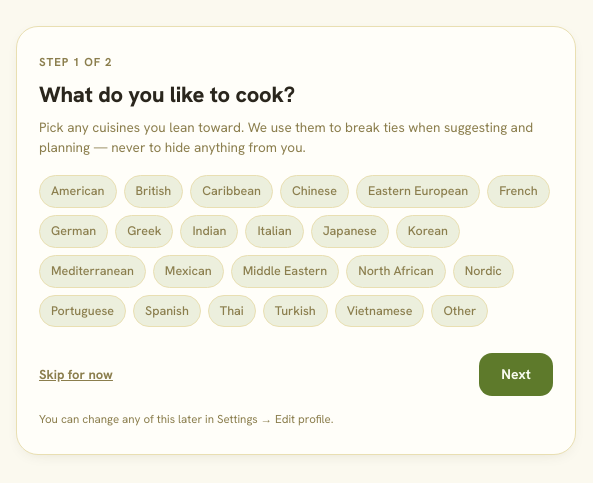
Test: OnboardingPage › keeps the user on the wizard when saving real choices fails
The image size is (593, 483).
Click the checkbox labelled "Thai" at point(232, 311), box x1=208 y1=294 x2=256 y2=327
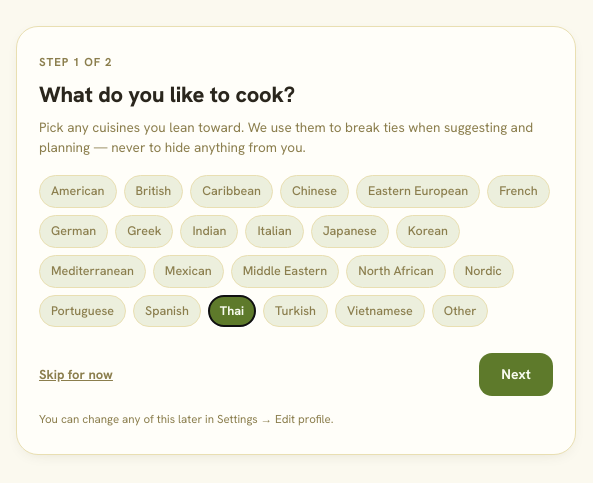
Click the button "Next" at point(516, 375), box x1=479 y1=353 x2=553 y2=396
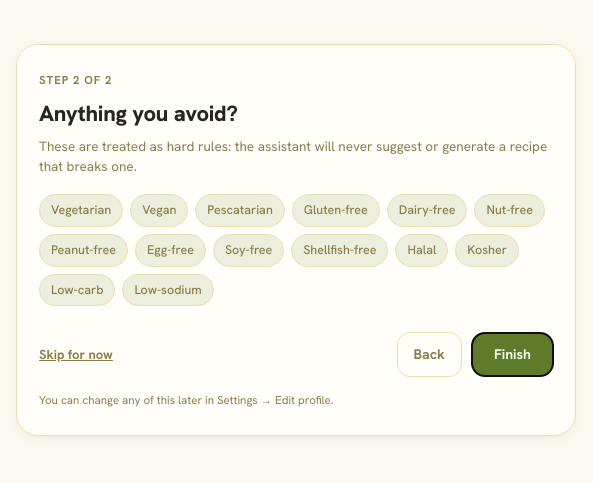
Click the button "Finish" at point(512, 355), box x1=472 y1=333 x2=553 y2=376
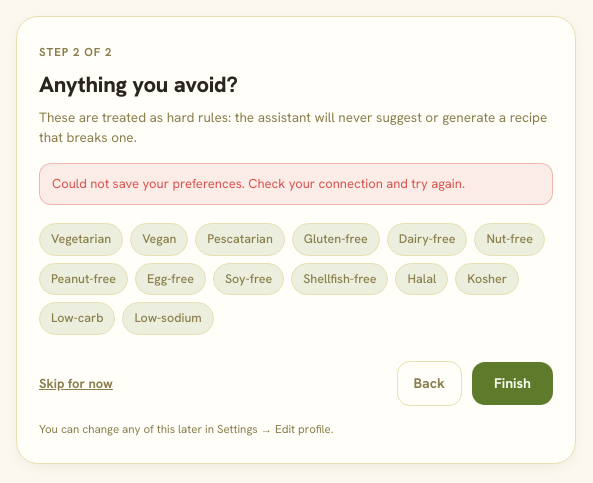
Expected: the message shows "Could not save", x1=52 y1=175 x2=465 y2=192
